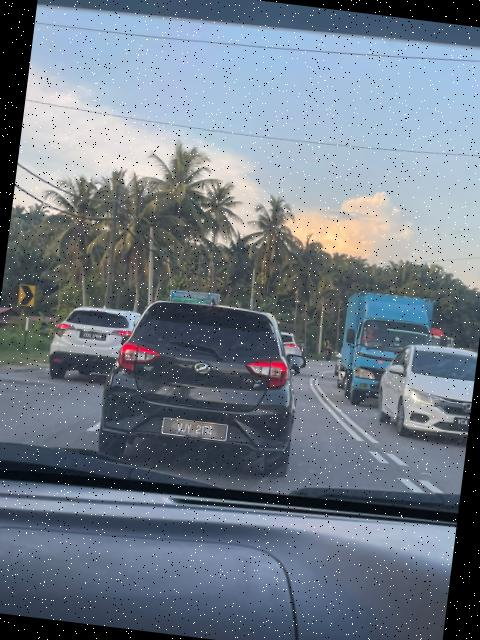License_Plate: (157, 416, 234, 445), (76, 329, 109, 344)
car: (96, 293, 310, 480), (44, 301, 144, 388)
